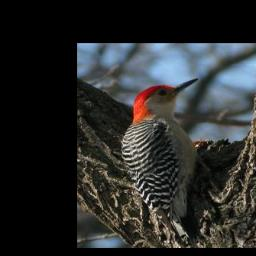Woodpecker: (118, 76, 214, 245)
